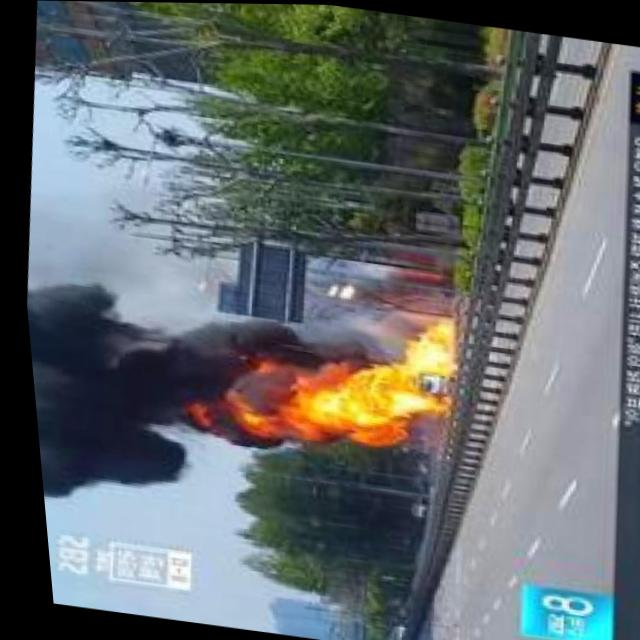Fire: (290, 363, 414, 449), (401, 315, 448, 377), (412, 385, 439, 416)
